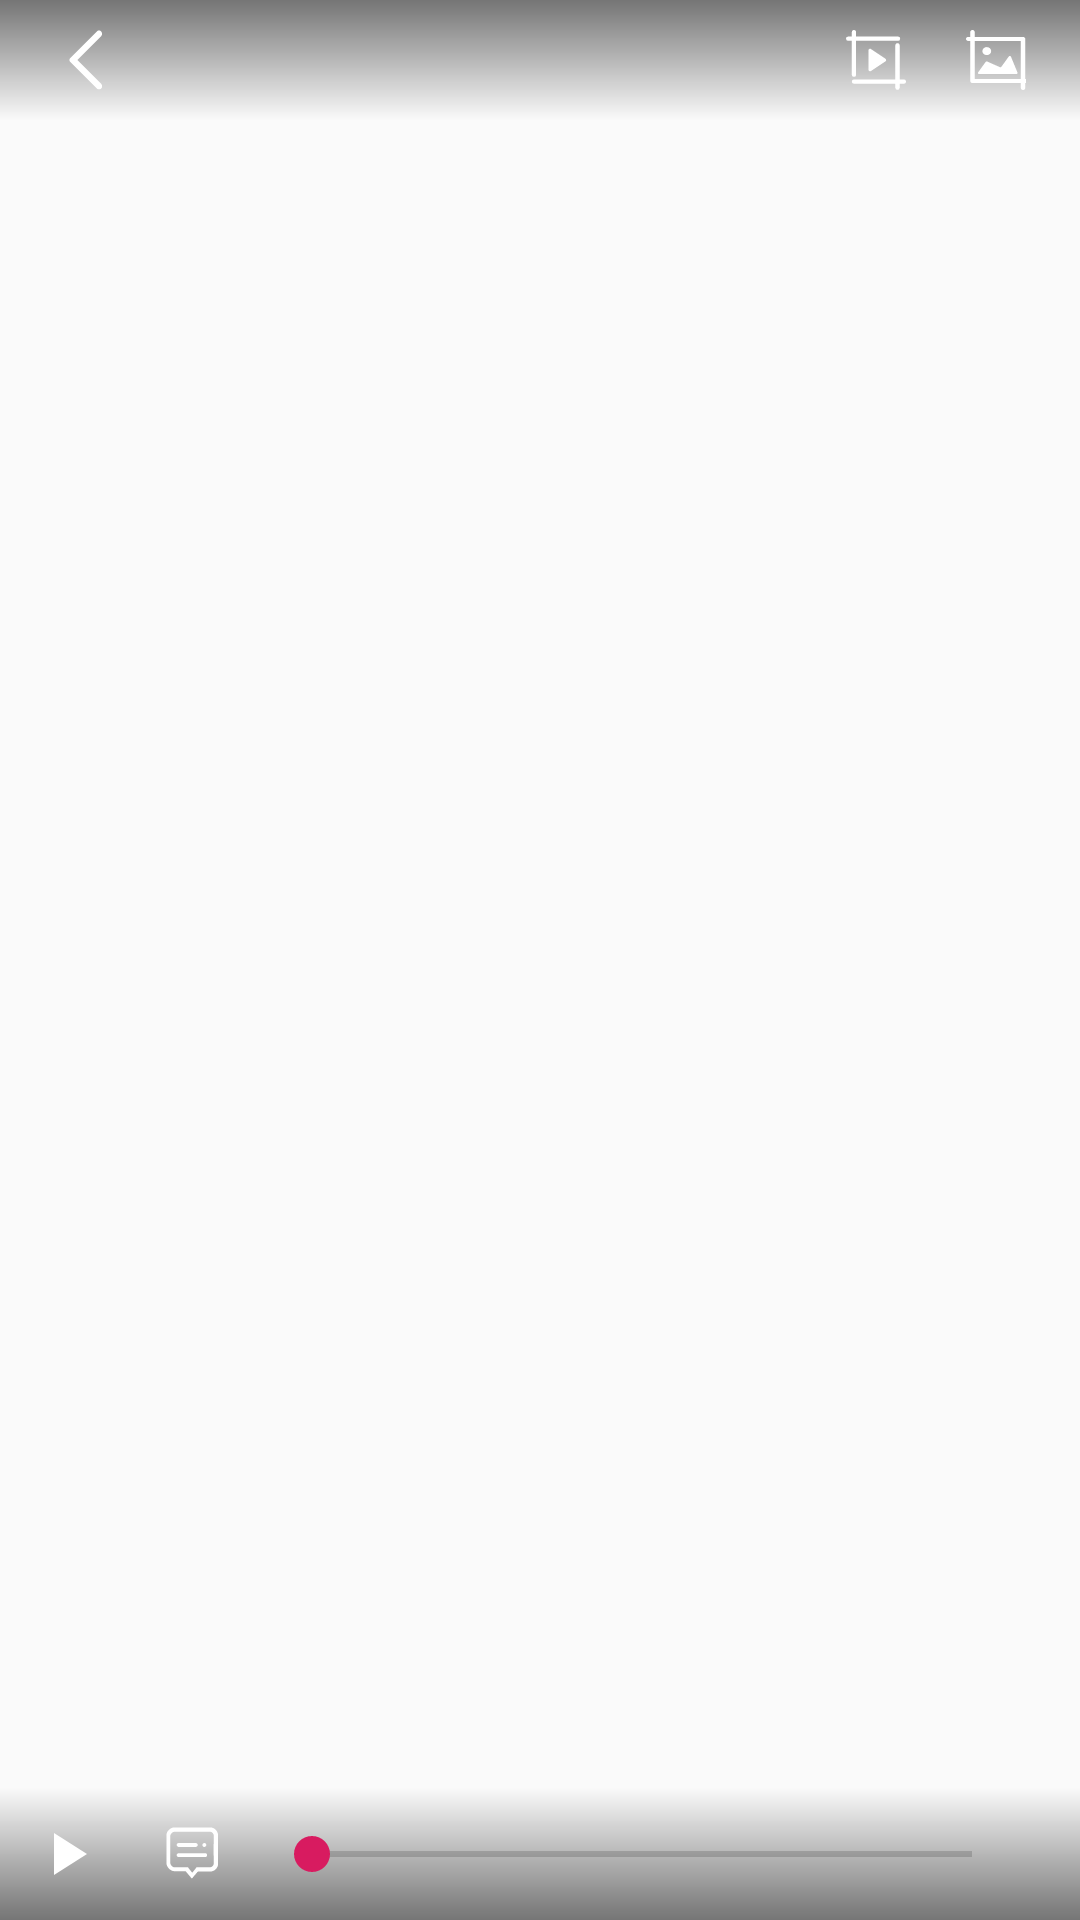

Icons on this 1080 × 1920 Android screen, each with the point to tap as (x,y):
弹幕显示/隐藏: (198,1854)
截取片段到资料库: (876,60)
截图到资料库: (996,60)
